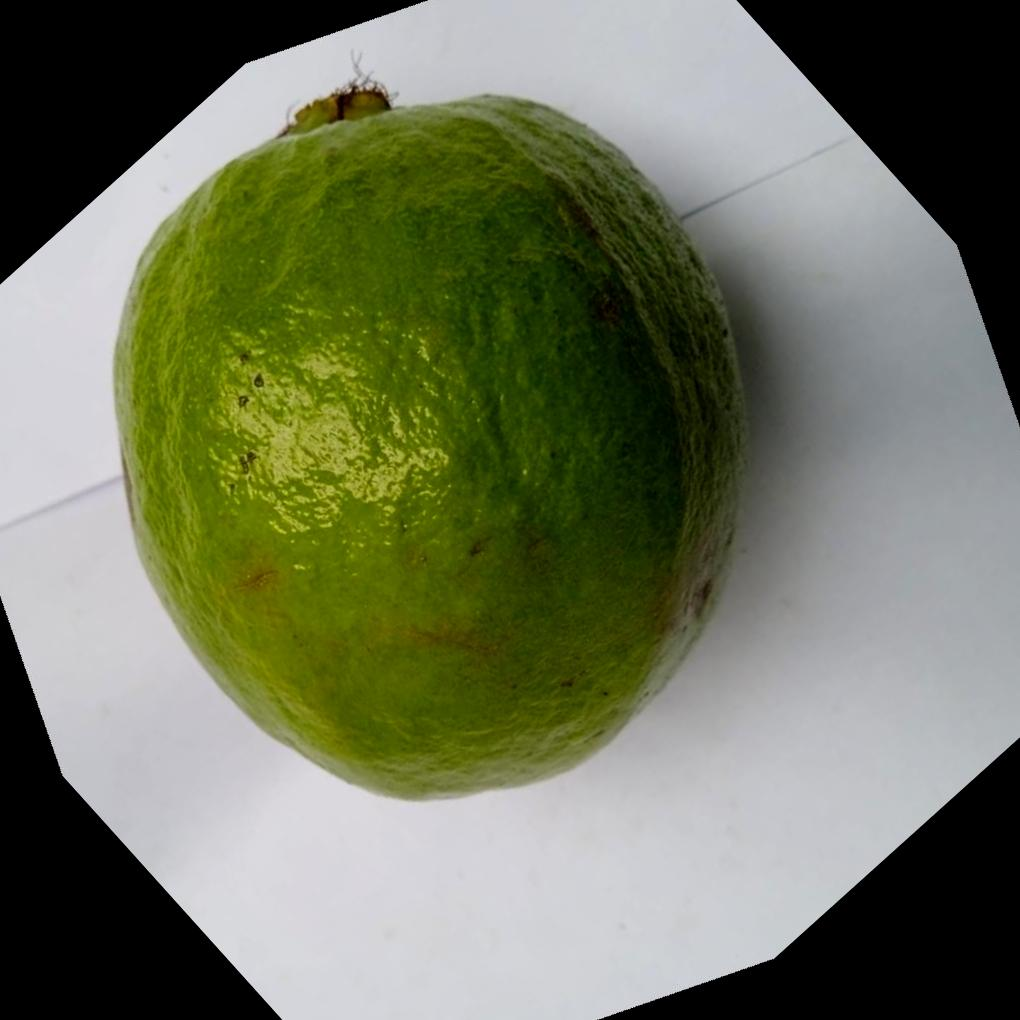FreshGuava: (110, 87, 757, 802)
